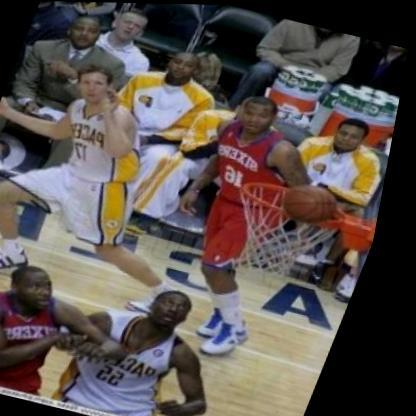basketball: (278, 171, 359, 229)
